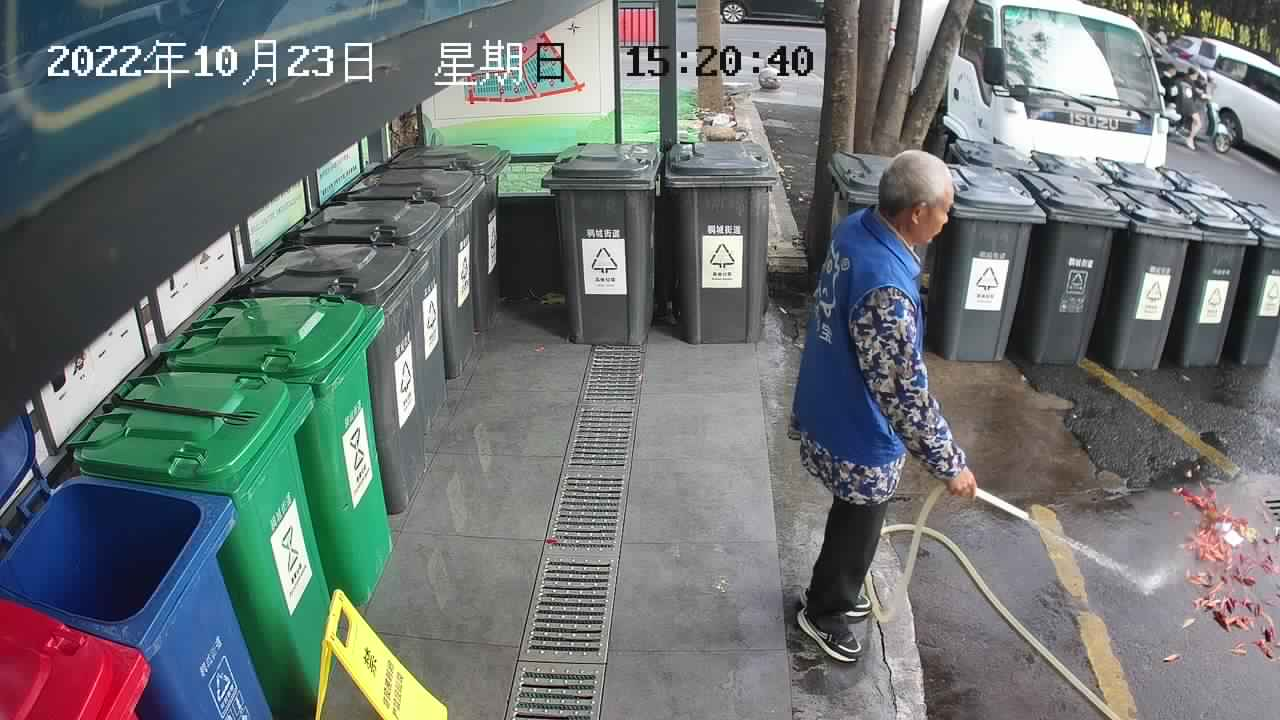worker: (782, 145, 980, 668)
